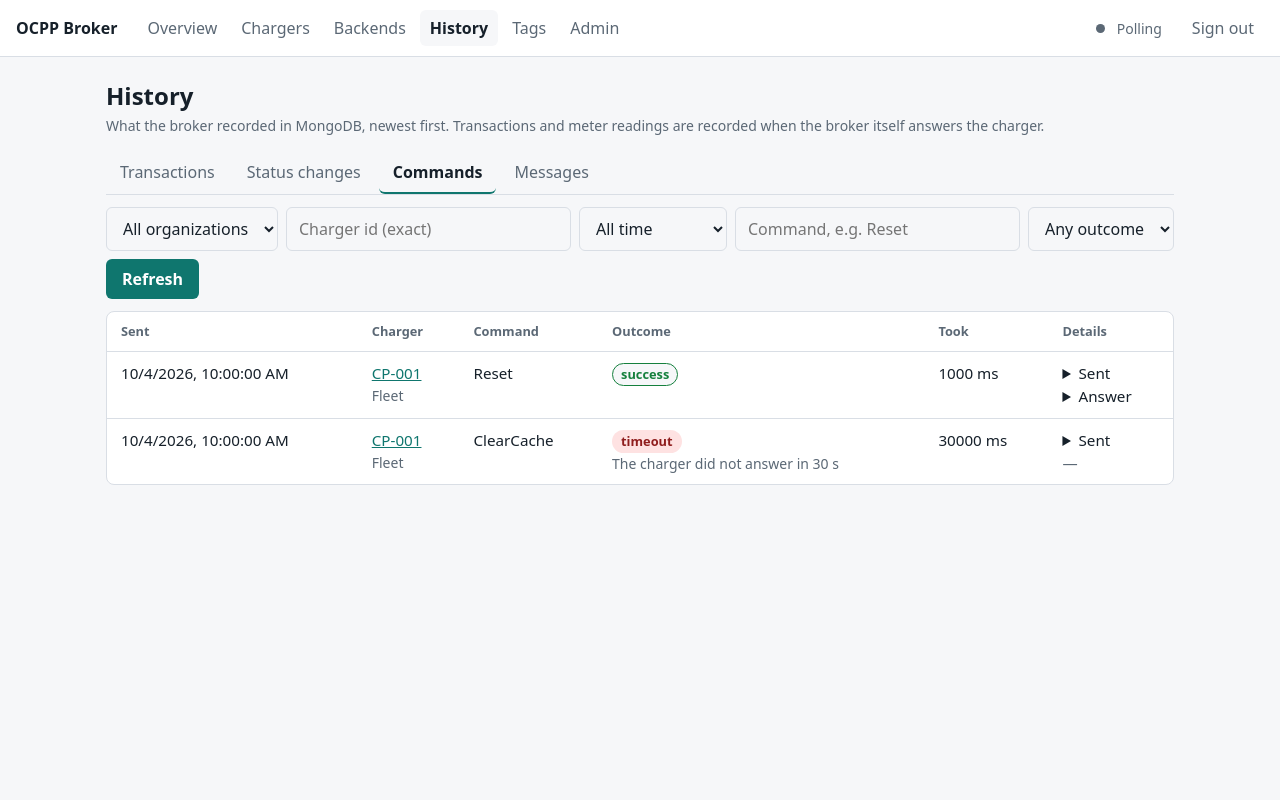
it: the history page › shows commands with their outcome, duration and what was sent and answered
Expected: the text "1000 ms" is shown, [924,352,1048,418]
Click the heading "Sent" in the row of "Reset" at point(1094, 373), box [1078,363,1110,383]
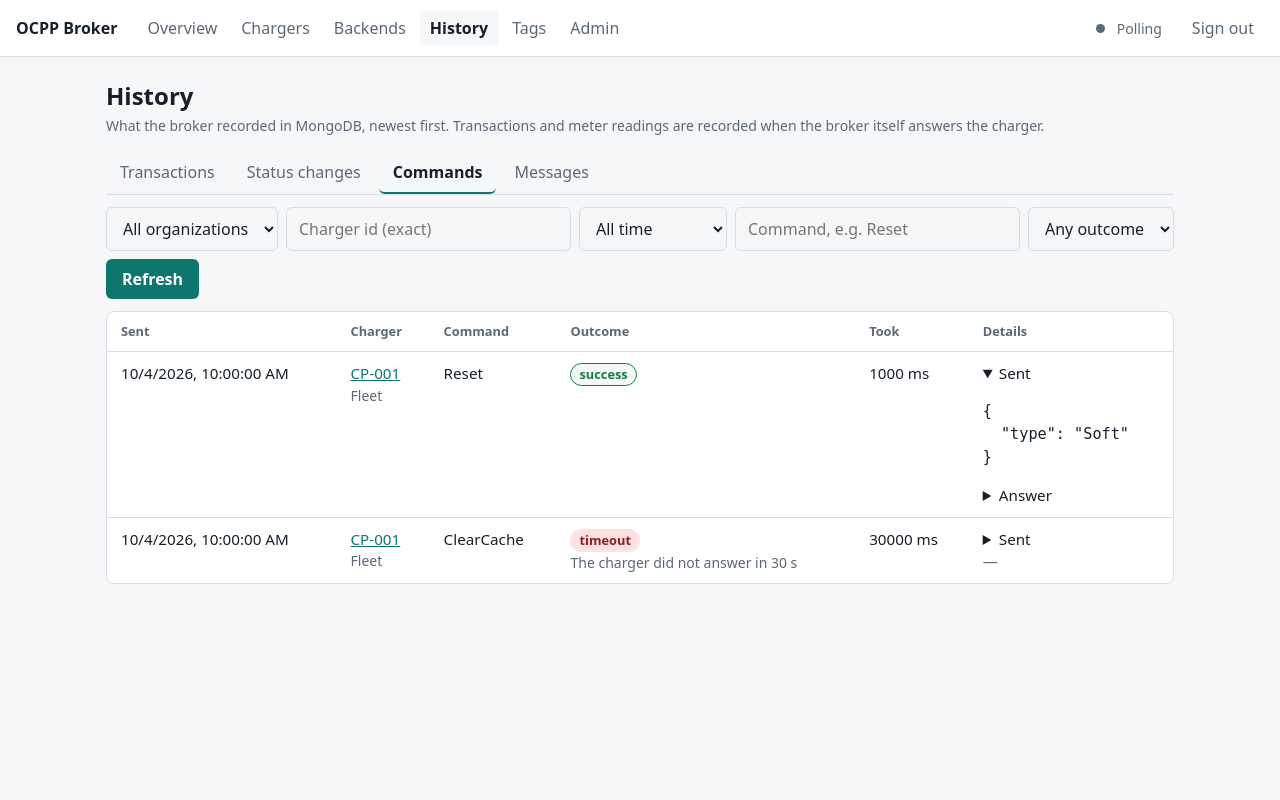
Expected: the text "The charger did not answer in 30 s" is shown, [570,553,797,572]
Expected: the text "{ \"type\": \"Soft\" }" is shown, [983,402,1129,466]
